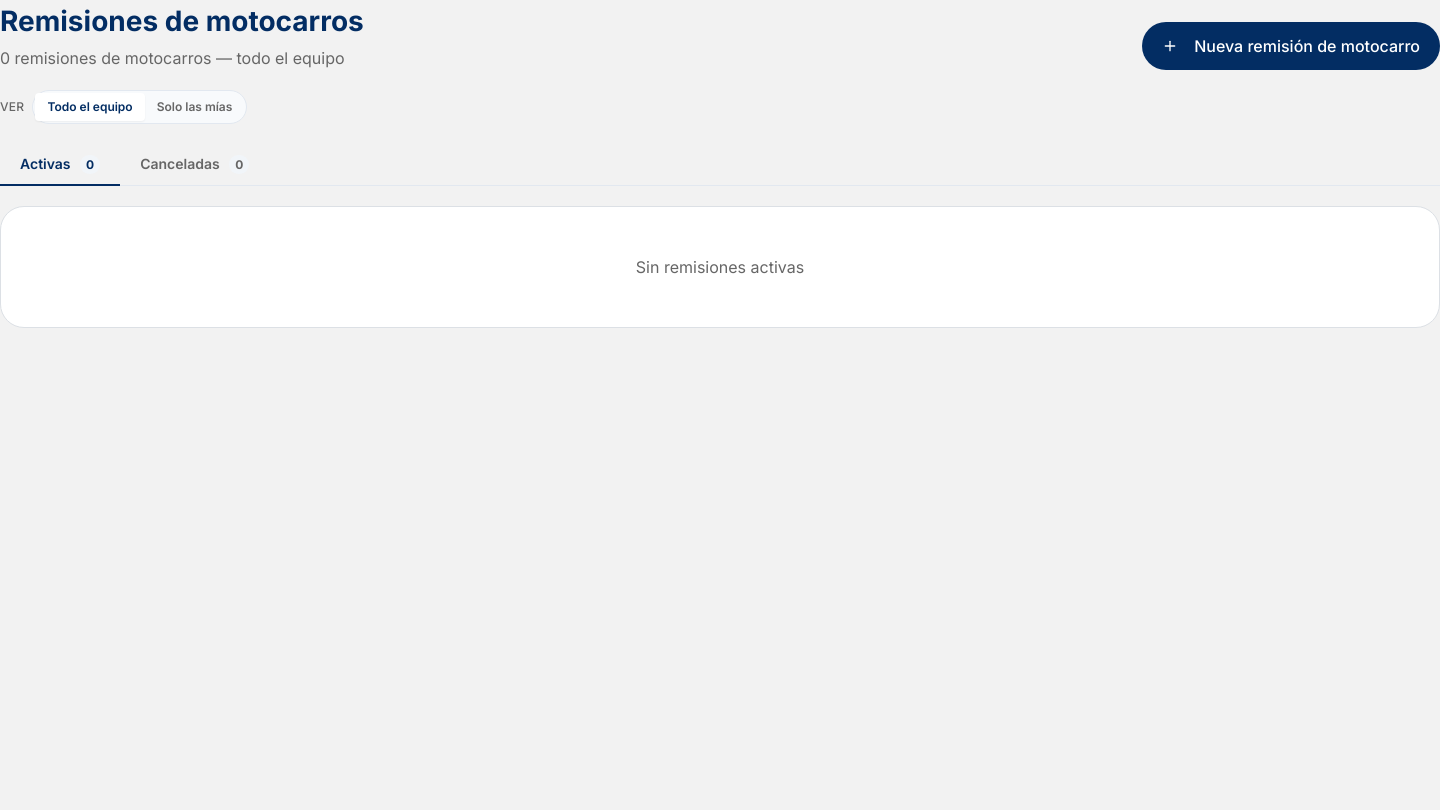
Scenario: Remisiones · disponibilidad por color › muestra las existencias del color contra el nombre comercial
Click the button "Nueva remisión de motocarro": (1291, 46) x1=1142 y1=22 x2=1439 y2=70
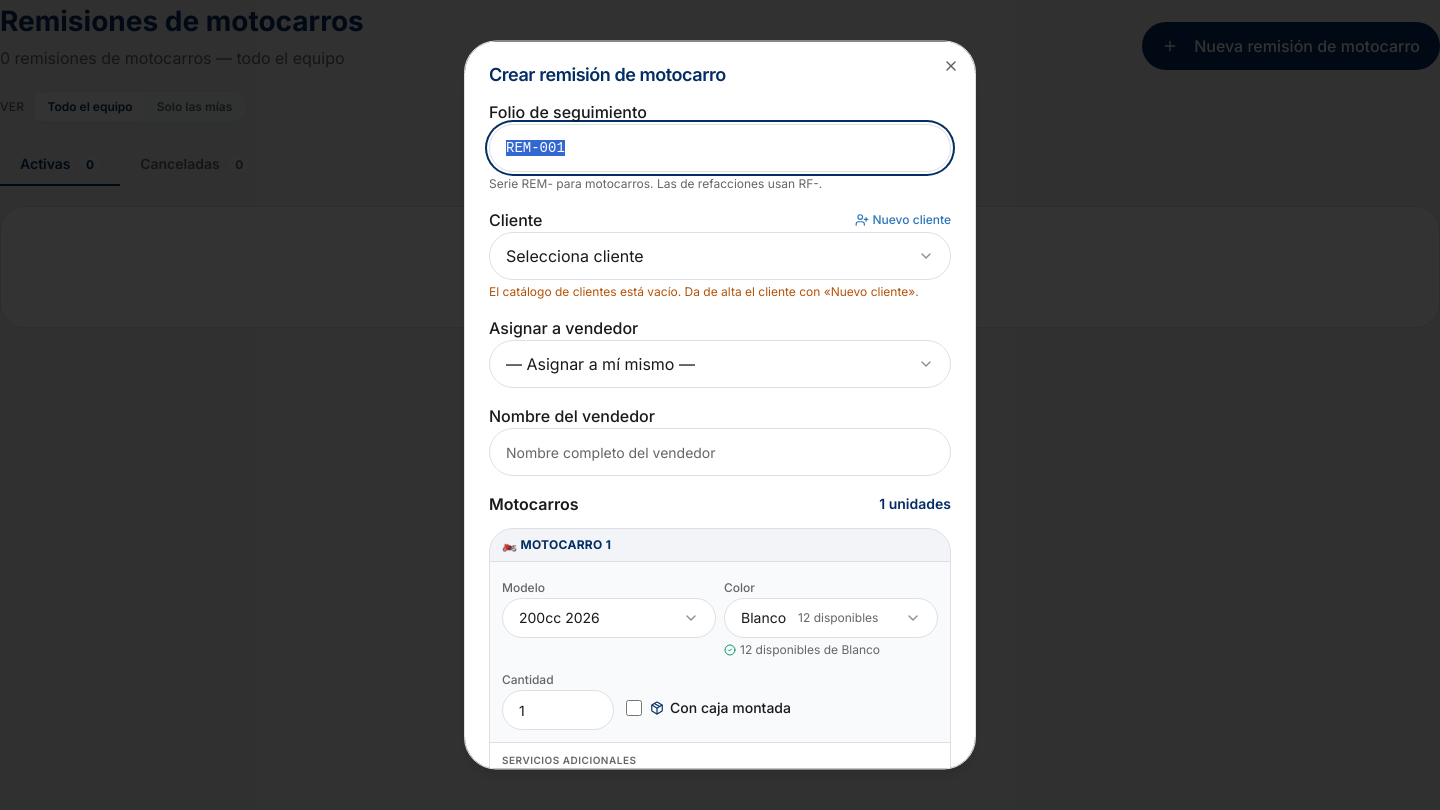
Expected: the text "12 disponibles de Blanco" is shown, x1=724 y1=642 x2=880 y2=656
